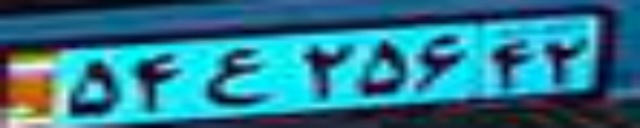2: (299, 42, 357, 100), (541, 36, 590, 85)
4: (136, 51, 178, 111), (490, 37, 535, 90)
5: (359, 38, 413, 99), (67, 59, 121, 115)
6: (418, 33, 468, 92)
ain: (204, 46, 276, 106)
